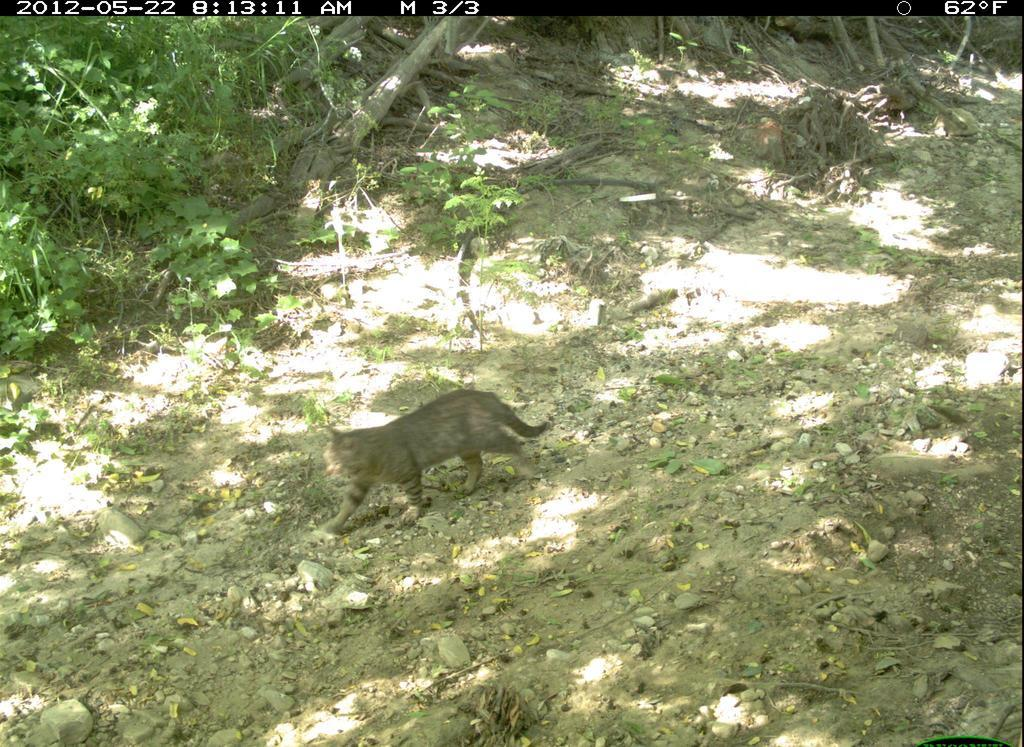cat: (312, 376, 561, 546)
